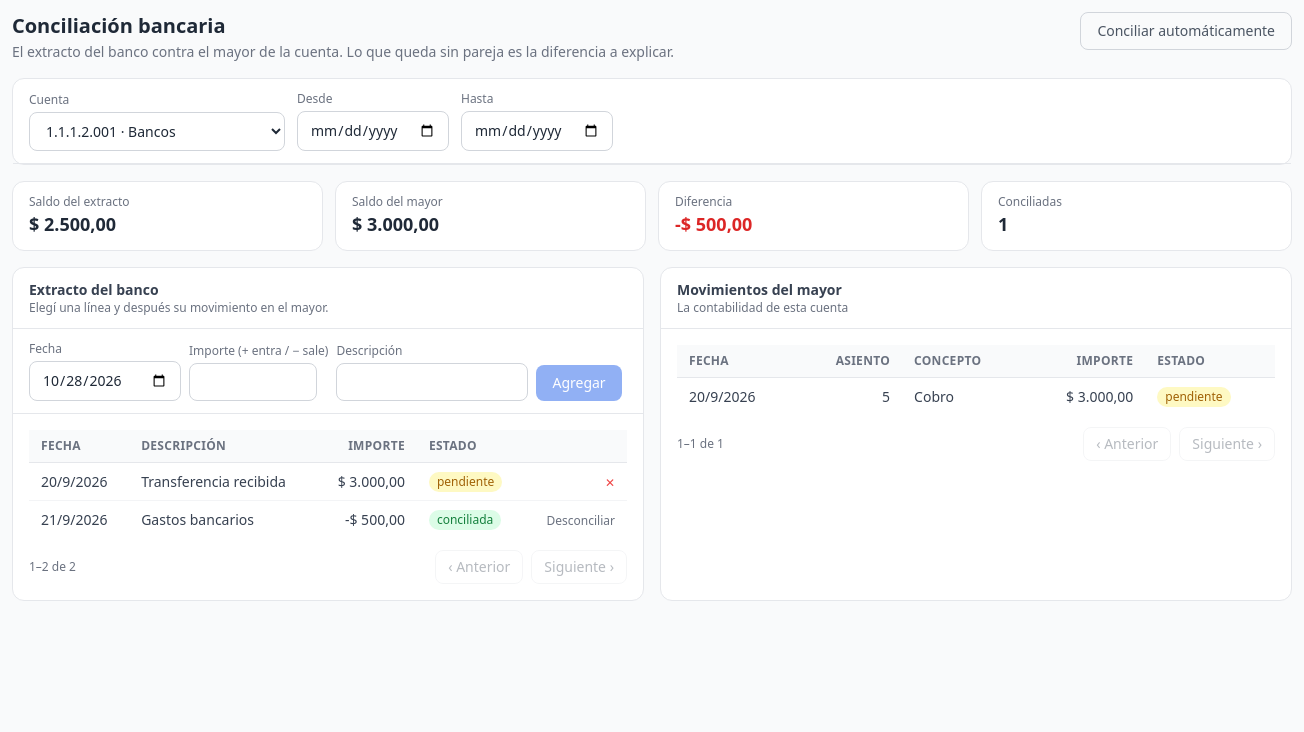
Test case: Conciliación bancaria › avisa si se elige un movimiento sin haber elegido el extracto
The width and height of the screenshot is (1304, 732).
Click the text "Cobro" at [934, 396], box [902, 378, 1024, 415]
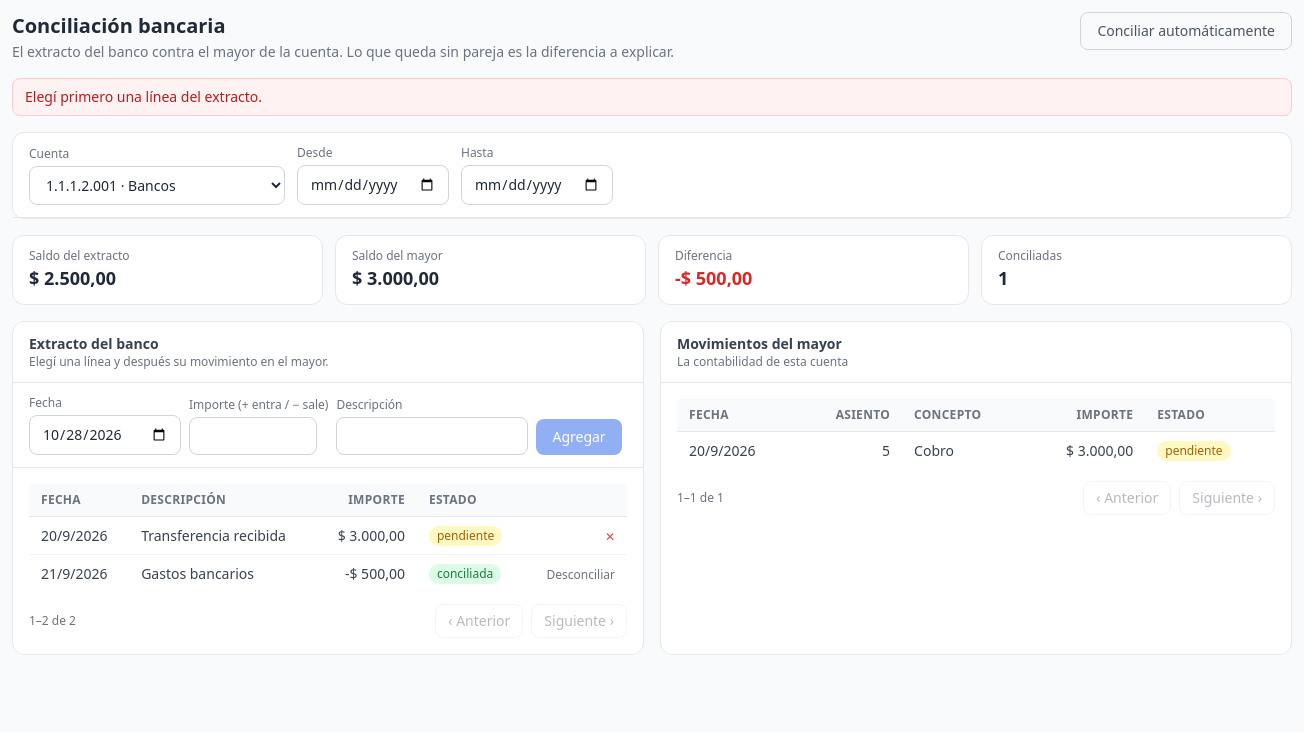
Expected: the text "Elegí primero una línea del extracto." is shown, [12, 78, 1292, 116]
